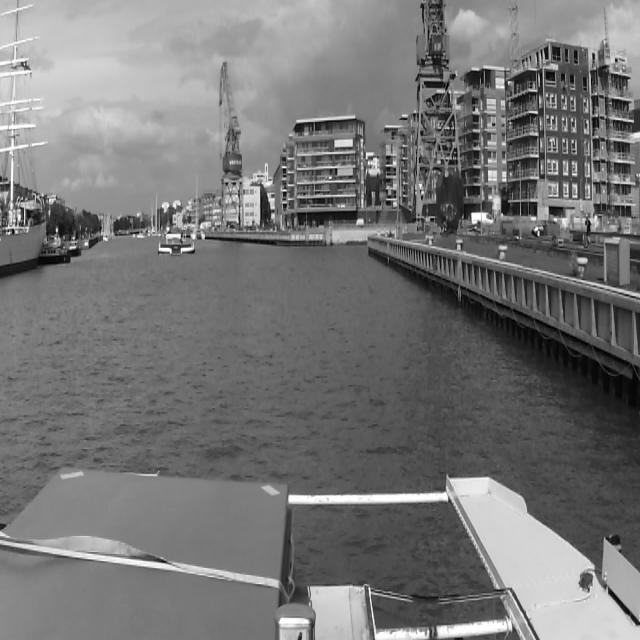ship: (0, 1, 46, 272), (188, 175, 206, 244), (154, 235, 196, 257), (152, 190, 163, 241), (44, 245, 68, 265), (68, 240, 80, 260), (136, 226, 154, 236), (130, 232, 136, 237)
